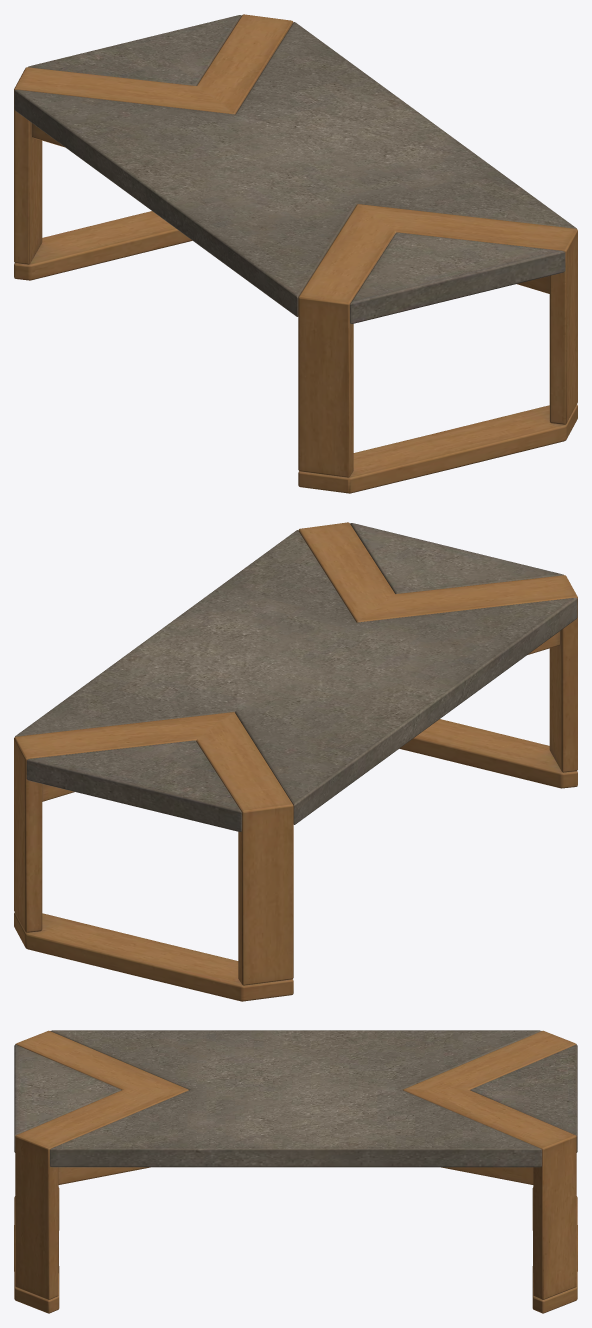
Rendered from modern_coffee_table_01.glb.
3 views of the same model, one above another, from view 1: azimuth 30°, elevation 25°; view 2: azimuth 150°, elevation 25°; view 3: azimuth 270°, elevation 25° (orthographic). The views are drawn at different scales.
Parts seen in each view (by area): view 1: modern_coffee_table_01; view 2: modern_coffee_table_01; view 3: modern_coffee_table_01.
Boxes of the visible parts, <box> form: modern_coffee_table_01: <box>14,14,577,493</box>; modern_coffee_table_01: <box>14,522,577,1001</box>; modern_coffee_table_01: <box>14,1030,577,1313</box>.
Bounding box in the file's own units: 0.5999 × 0.39 × 1.2.
1 material, 1 textured.
